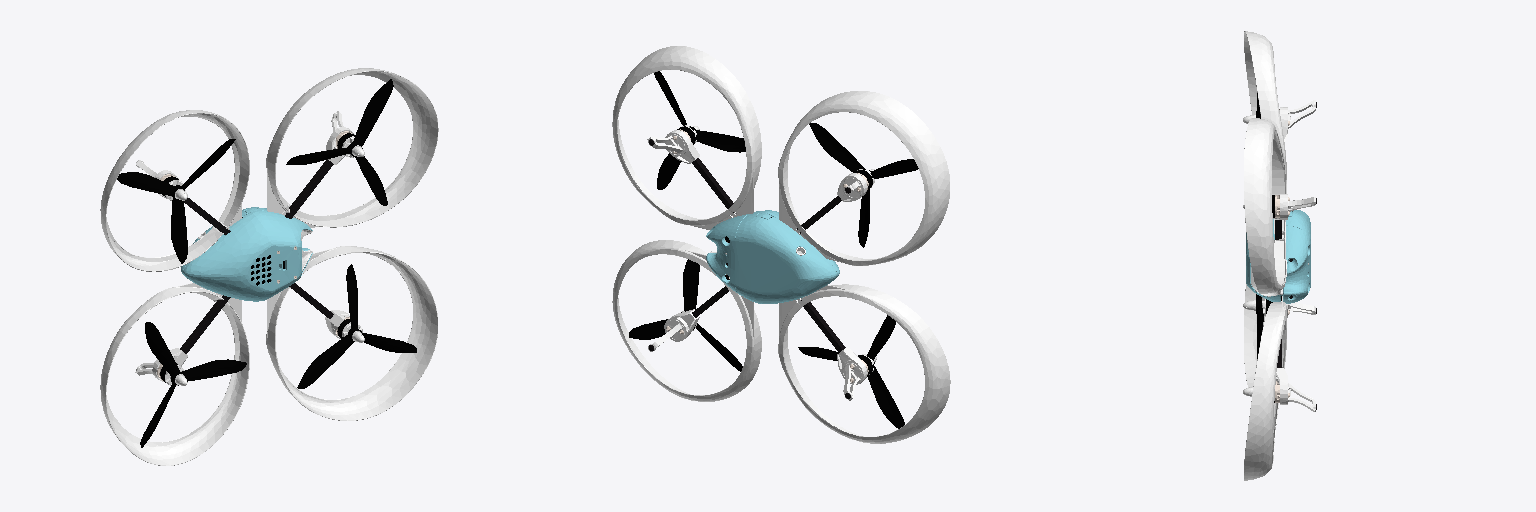
Rendered from spiri.obj.
3 renders of one model, left to right at view 1: azimuth 30°, elevation 25°; view 2: azimuth 150°, elevation 25°; view 3: azimuth 270°, elevation 25°, orthographic.
Parts seen in each view (by area): view 1: Spiri_Spiri_spiri_whiteplastic, Spiri_Spiri_spiri_blueplastic, Propeller3_Propeller3_spiri_blackplastic, Propeller1_Propeller1_spiri_blackplastic, Propeller4_Propeller4_spiri_blackplastic, Propeller2_Propeller2_spiri_blackplastic, Spiri_Spiri_spiri_greybeams; view 2: Spiri_Spiri_spiri_whiteplastic, Spiri_Spiri_spiri_blueplastic, Propeller3_Propeller3_spiri_blackplastic, Spiri_Spiri_spiri_greybeams, Propeller4_Propeller4_spiri_blackplastic, Propeller1_Propeller1_spiri_blackplastic, Propeller2_Propeller2_spiri_blackplastic; view 3: Spiri_Spiri_spiri_whiteplastic, Spiri_Spiri_spiri_blueplastic.
Boxes of the visible parts, x1=… form: Spiri_Spiri_spiri_whiteplastic: x1=100, y1=68, x2=438, y2=465; Spiri_Spiri_spiri_blueplastic: x1=181, y1=207, x2=312, y2=301; Propeller3_Propeller3_spiri_blackplastic: x1=117, y1=139, x2=235, y2=263; Propeller1_Propeller1_spiri_blackplastic: x1=297, y1=264, x2=416, y2=388; Propeller4_Propeller4_spiri_blackplastic: x1=140, y1=322, x2=246, y2=447; Propeller2_Propeller2_spiri_blackplastic: x1=286, y1=79, x2=393, y2=205; Spiri_Spiri_spiri_greybeams: x1=180, y1=159, x2=333, y2=353; Spiri_Spiri_spiri_whiteplastic: x1=612, y1=46, x2=950, y2=443; Spiri_Spiri_spiri_blueplastic: x1=706, y1=210, x2=839, y2=303; Propeller3_Propeller3_spiri_blackplastic: x1=809, y1=123, x2=918, y2=247; Spiri_Spiri_spiri_greybeams: x1=649, y1=139, x2=850, y2=398; Propeller4_Propeller4_spiri_blackplastic: x1=798, y1=315, x2=904, y2=428; Propeller1_Propeller1_spiri_blackplastic: x1=629, y1=259, x2=742, y2=371; Propeller2_Propeller2_spiri_blackplastic: x1=654, y1=71, x2=745, y2=189; Spiri_Spiri_spiri_whiteplastic: x1=1243, y1=31, x2=1315, y2=480; Spiri_Spiri_spiri_blueplastic: x1=1246, y1=210, x2=1310, y2=303.
Size of the model in its own units: 0.4754 by 0.4754 by 0.0925.